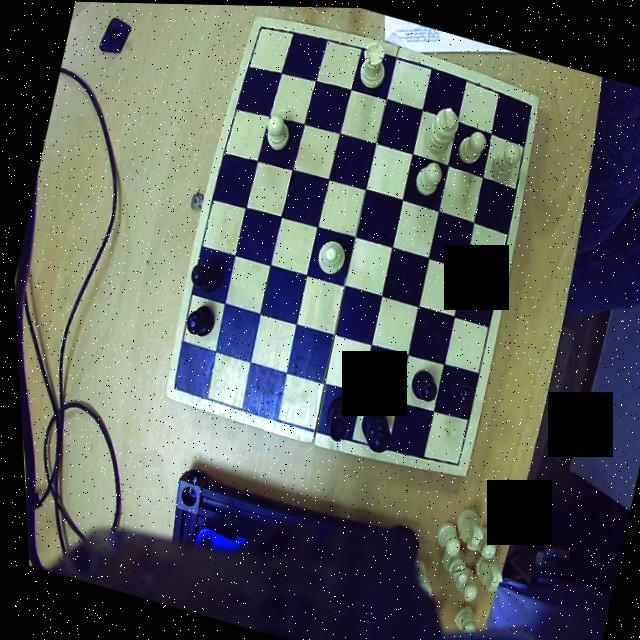chess-table-corners: (160, 370, 188, 400), (436, 448, 464, 476), (517, 90, 540, 121), (252, 14, 276, 40)
